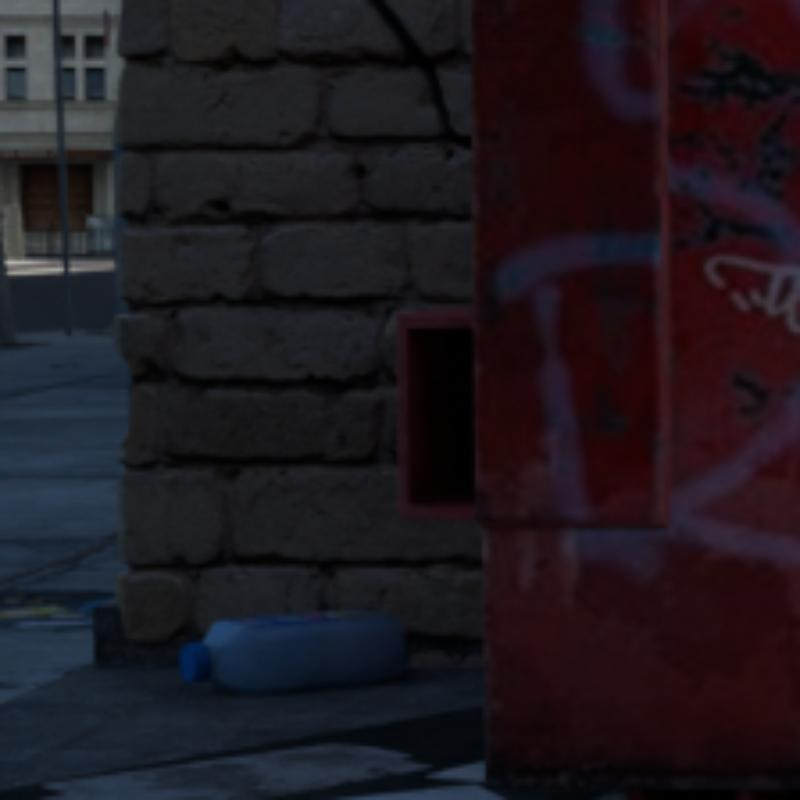pothole: (368, 0, 468, 146)
